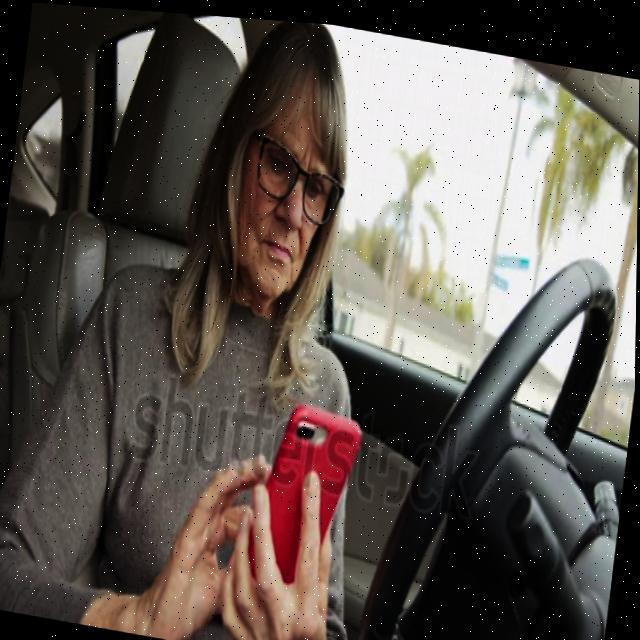PhoneCall: (244, 387, 366, 605)
